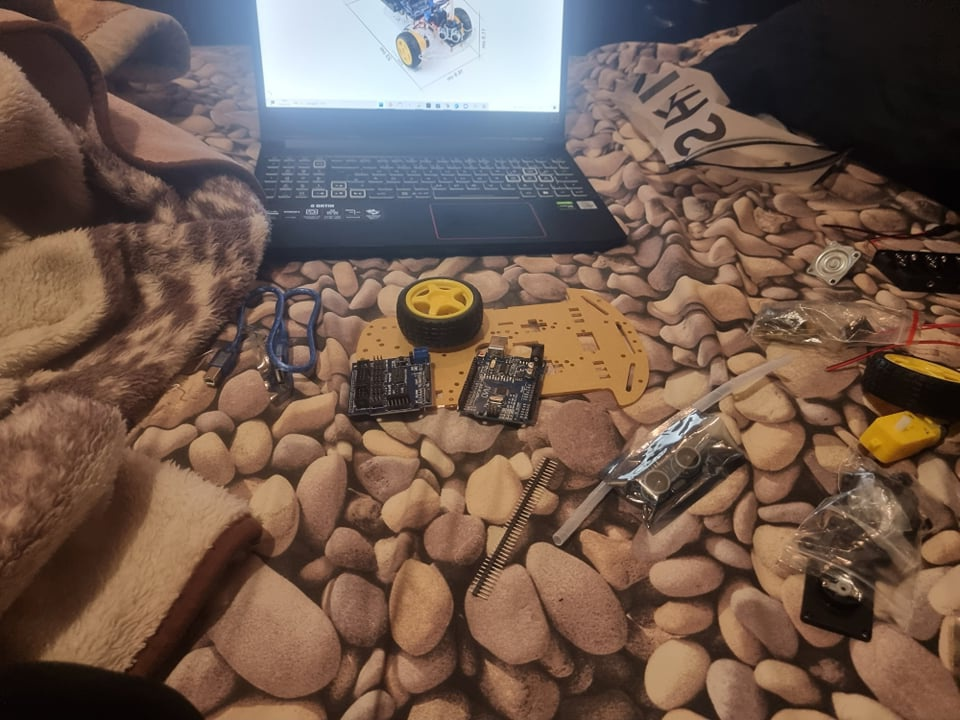5V EXPANSION: (347, 346, 435, 422)
BATTERY BOX: (874, 246, 959, 292)
SENSOR: (640, 442, 701, 505), (437, 28, 461, 43)
UNO R3: (457, 335, 544, 426)
